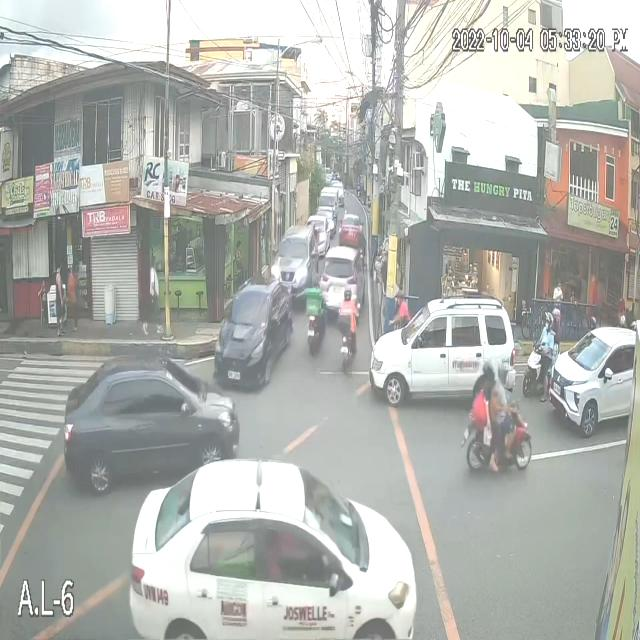Full-Faced: (341, 284, 355, 310)
Half-Faced: (542, 311, 552, 331)
